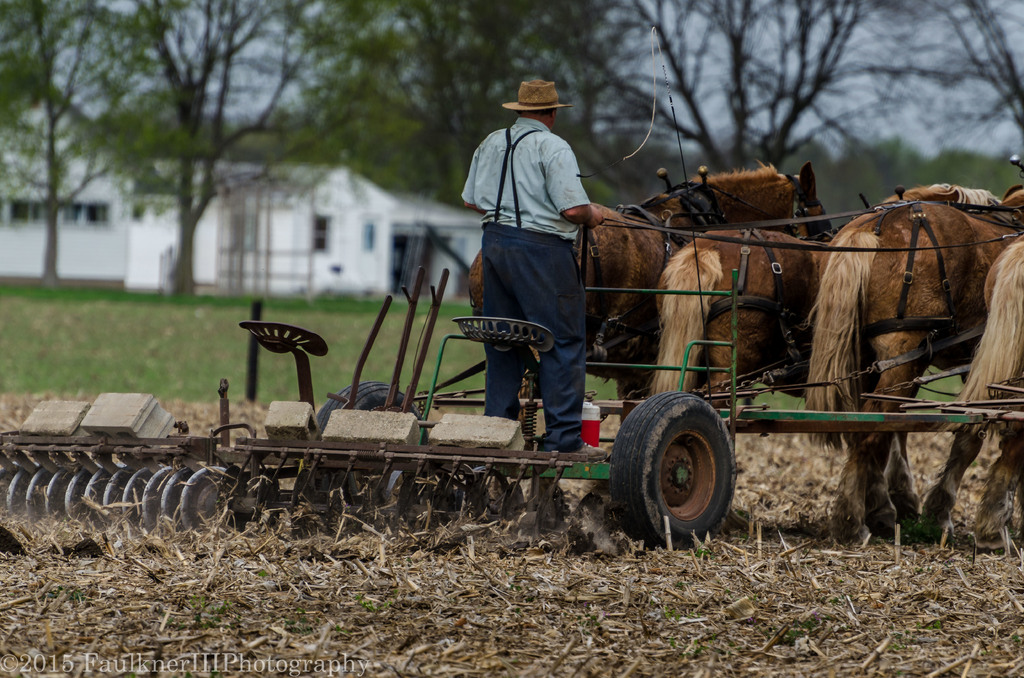Person: (460, 79, 604, 463)
